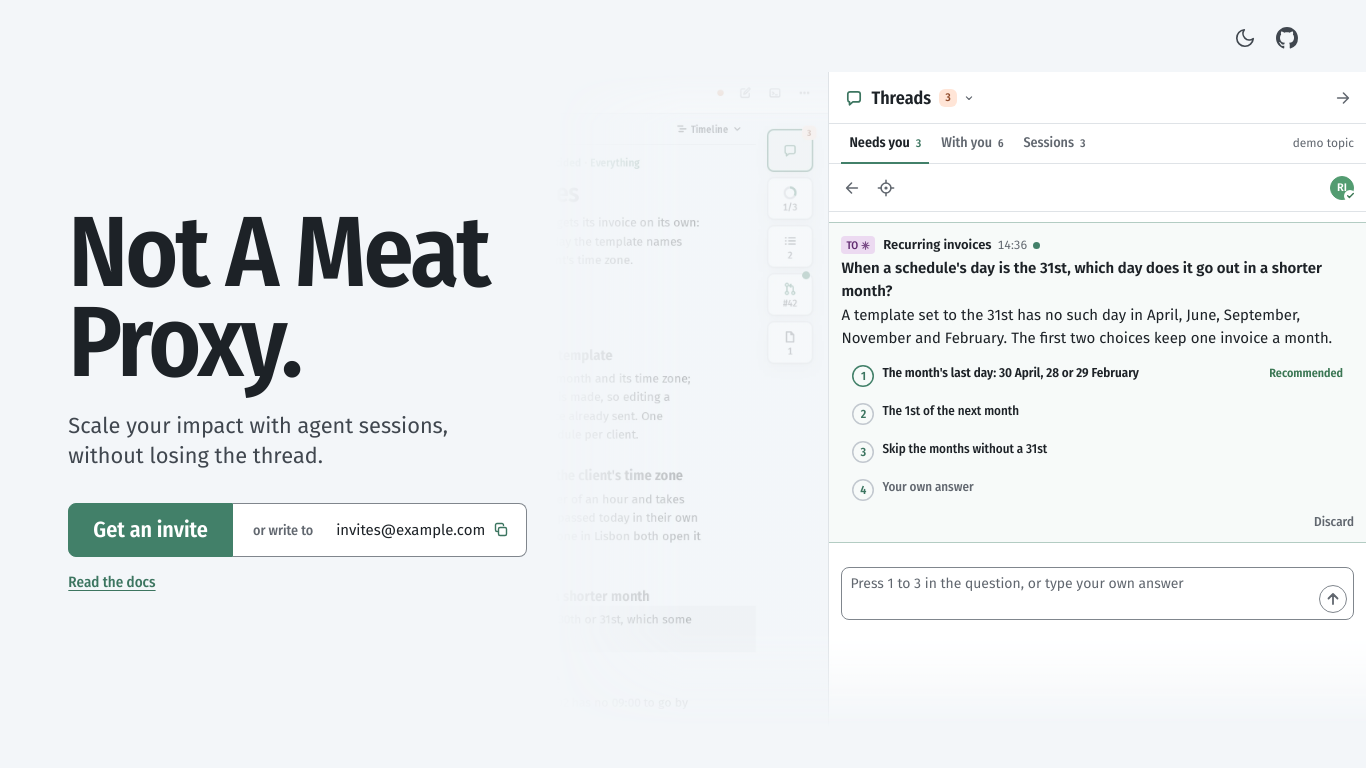
it: the drawer on the home page › a click on a choice folds the question out and brings the D4 question up, the counts one less, the focus on it
Click the button with class "choice" showing "2 The 1st of the next month". click: click(951, 410)
box: [841, 396, 1354, 432]
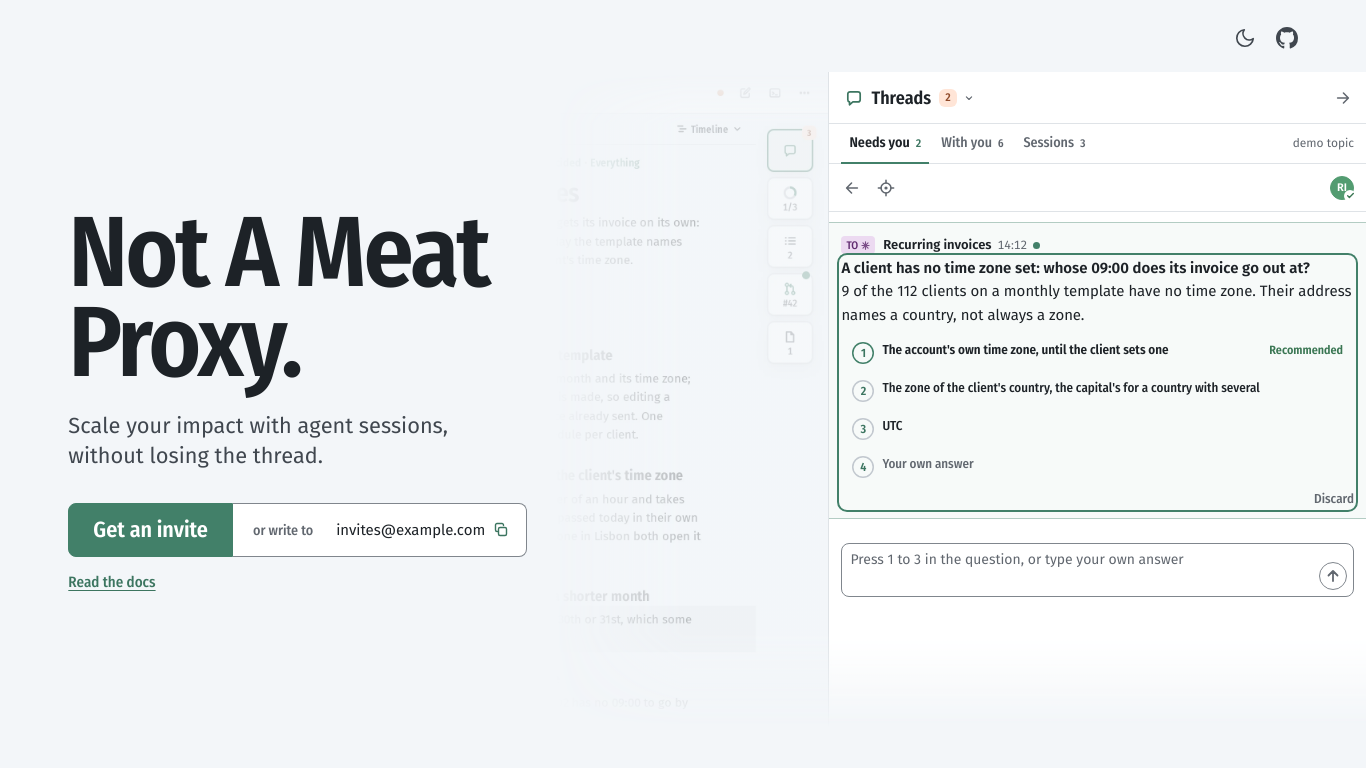
Expected: the element with class "who" reads "Recurring invoices 14:12", [883, 237, 1040, 252]
Expected: the text with class "title" reads "A client has no time zone set: whose 09:00 does its invoice go out at?", [841, 259, 1310, 277]
Expected: the text with class "ctx" shows "9 of the 112 clients on a monthly template have no time zone. Their address names a country, not always a zone.", [841, 282, 1352, 324]
